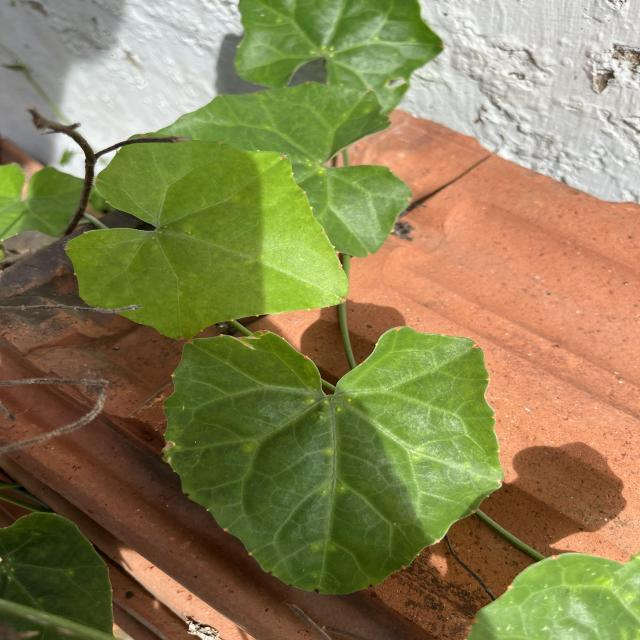Coccinia grandis: (158, 324, 508, 598), (64, 131, 352, 343)
